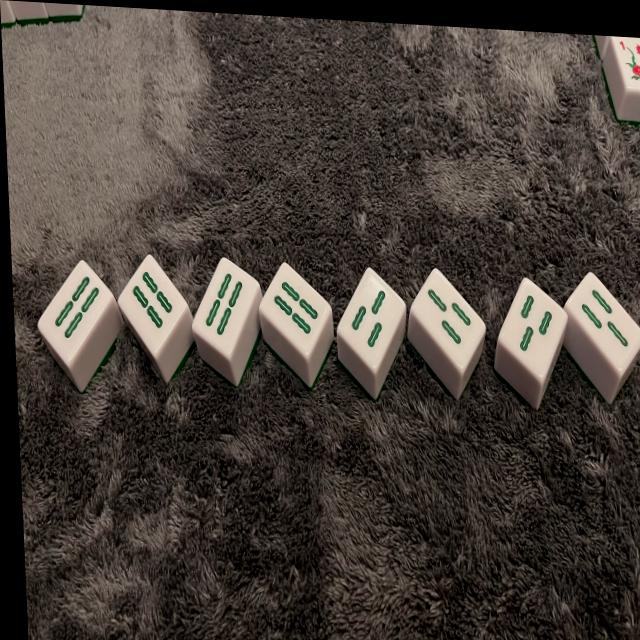s3: (407, 265, 489, 372), (562, 269, 640, 376), (334, 264, 411, 371), (496, 274, 573, 381)
s4: (34, 259, 120, 366), (114, 251, 192, 355), (189, 254, 263, 356), (258, 259, 335, 357)
